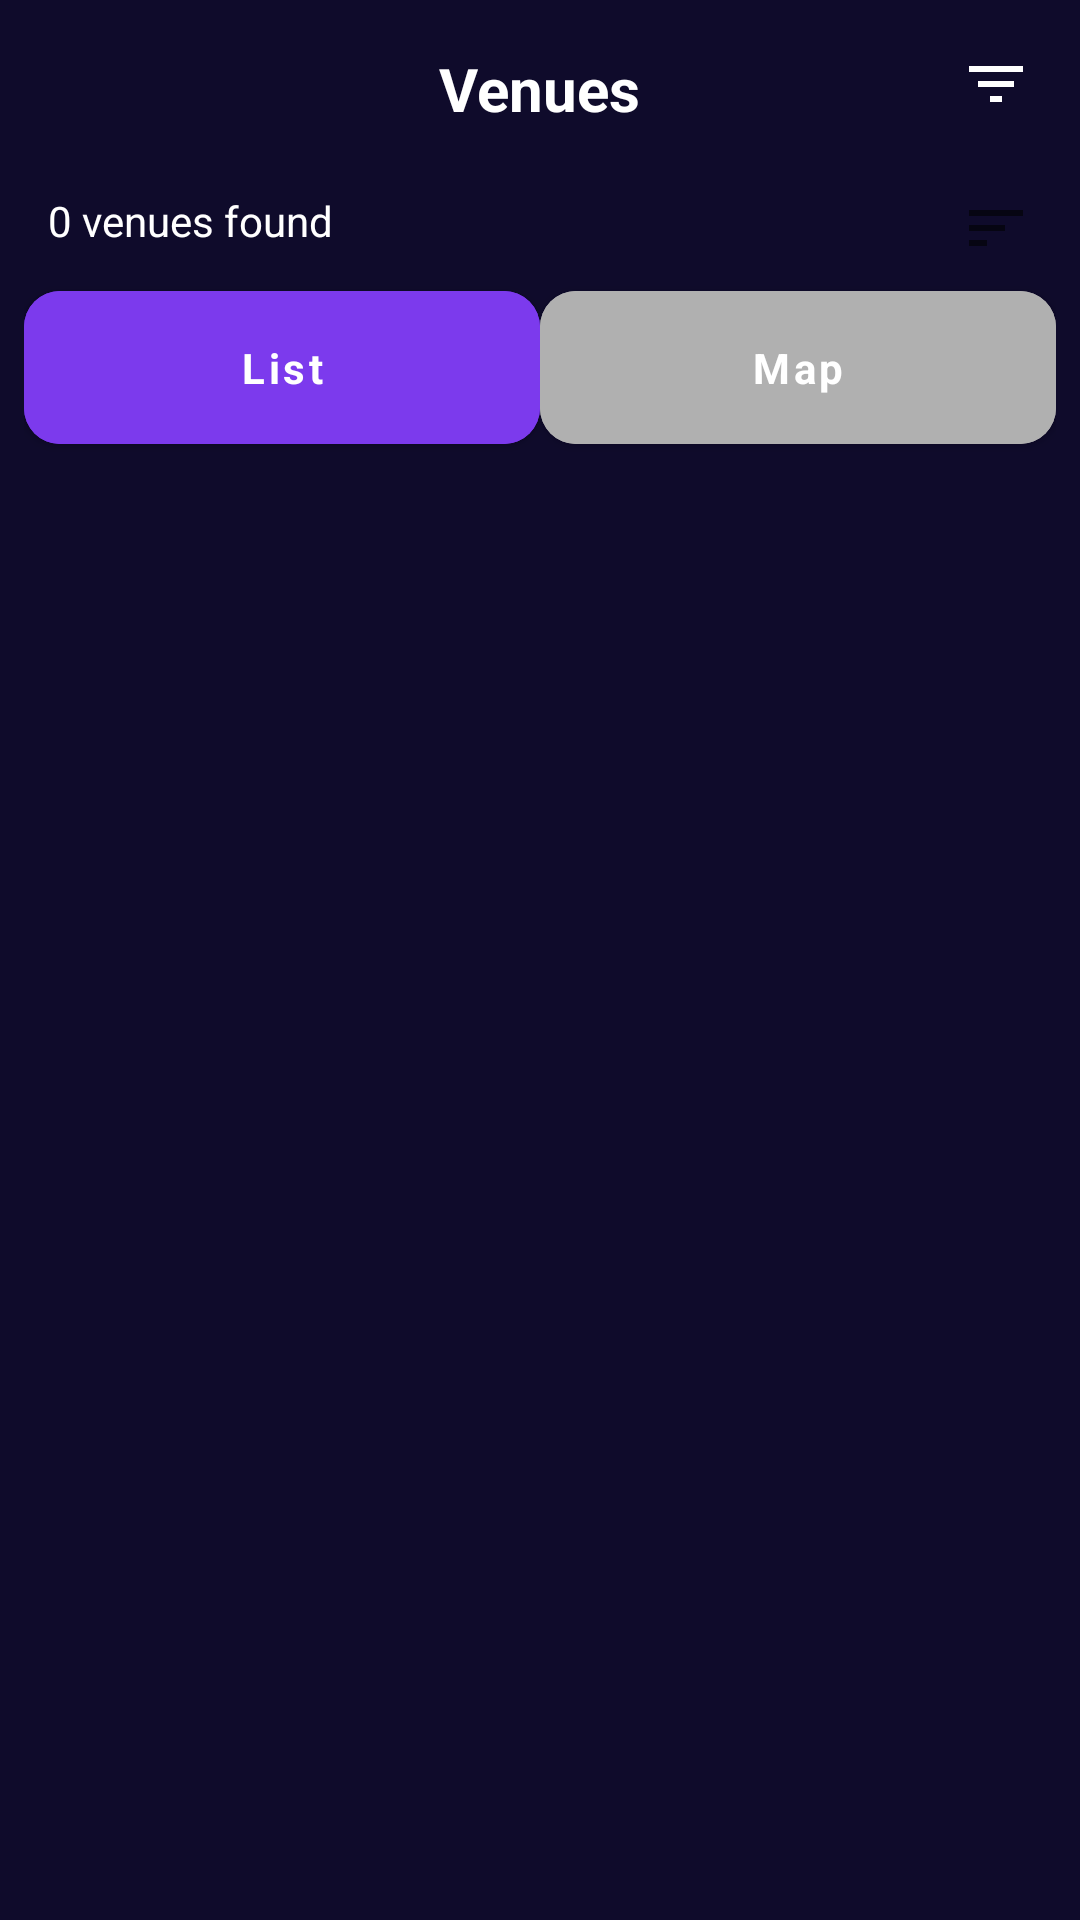

Where to tap for icons on this 1080*1920 app screen, as (x=x, y=y):
filter: (x=996, y=84)
sort: (x=996, y=228)
